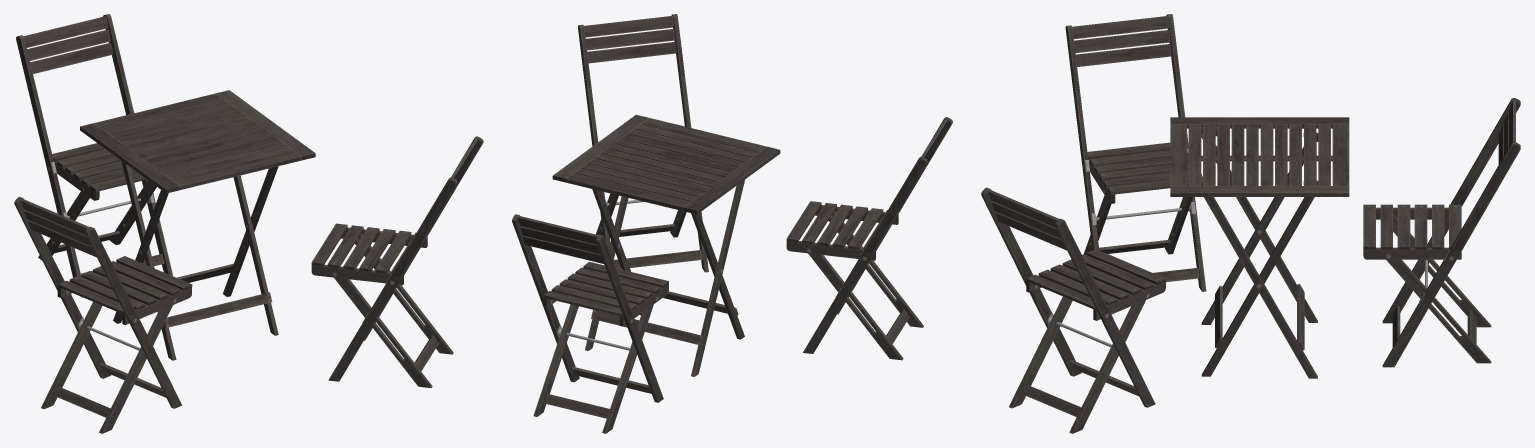
File: cafe-set.glb
3 renders of one model, left to right at view 1: azimuth 30°, elevation 25°; view 2: azimuth 150°, elevation 25°; view 3: azimuth 270°, elevation 25°, orthographic. The views are drawn at different scales.
Visible parts, largest first — view 1: table__0, chair003__0, chair1__0, chair2__0; view 2: table__0, chair1__0, chair003__0, chair2__0; view 3: table__0, chair2__0, chair1__0, chair003__0.
Boxes of the visible parts, bbox=[...] form: table__0: bbox=[80, 90, 315, 360]; chair003__0: bbox=[14, 196, 192, 433]; chair1__0: bbox=[16, 14, 172, 297]; chair2__0: bbox=[311, 136, 483, 388]; table__0: bbox=[552, 114, 780, 376]; chair1__0: bbox=[512, 214, 668, 433]; chair003__0: bbox=[786, 117, 952, 360]; chair2__0: bbox=[578, 14, 708, 272]; table__0: bbox=[1170, 117, 1349, 378]; chair2__0: bbox=[981, 187, 1165, 433]; chair1__0: bbox=[1363, 98, 1520, 367]; chair003__0: bbox=[1065, 14, 1206, 291].
Size of the model in its own units: 1.85 by 0.9142 by 2.
Materials: 1 (1 with a texture image).
